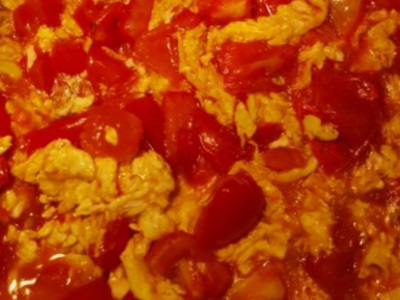jdxhs: (6, 6, 395, 296)
